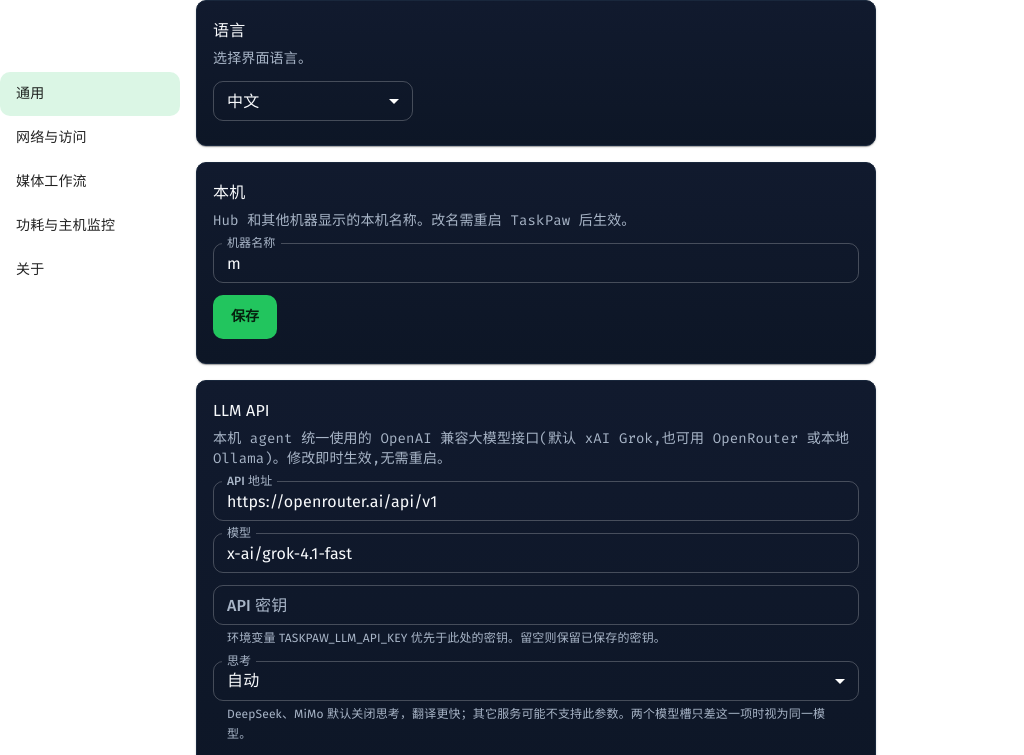
Test: Settings LLM API card › T-U3 Test connection includes a typed key
The image size is (1024, 755).
Expected: the field labelled "模型" is shown, left=213, top=533, right=859, bottom=573
Type "sk-try" into the password field labelled "API 密钥". click: (536, 605)
box: left=213, top=585, right=859, bottom=625
(page scrolled)
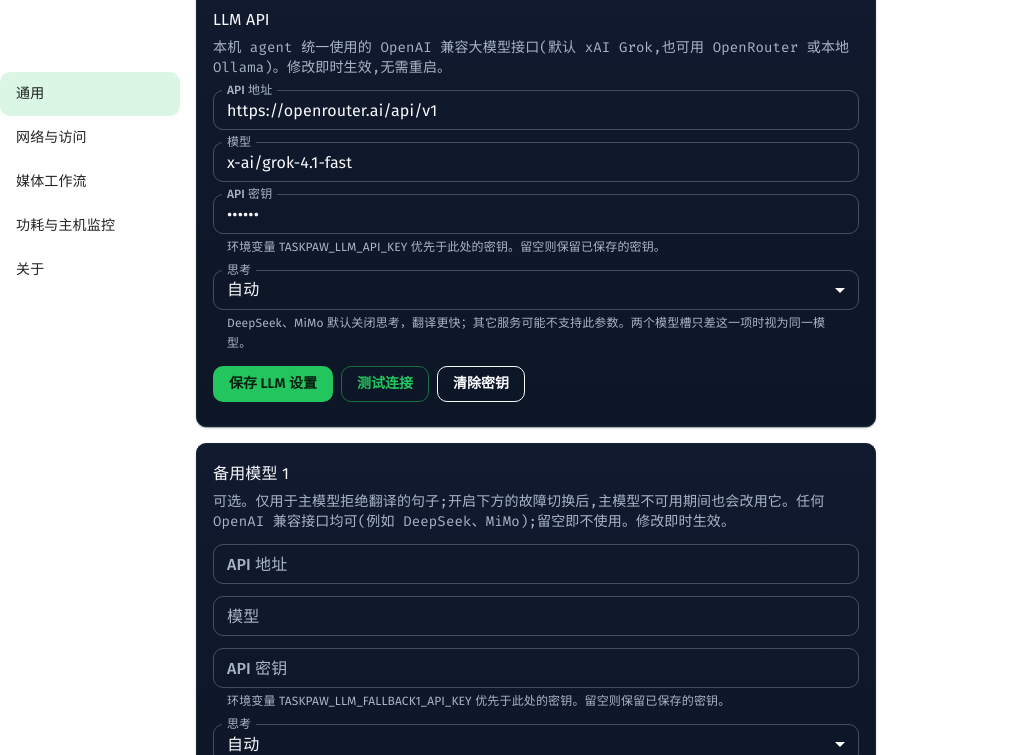
Click the button "测试连接". click: (385, 384)
box: left=341, top=366, right=429, bottom=402
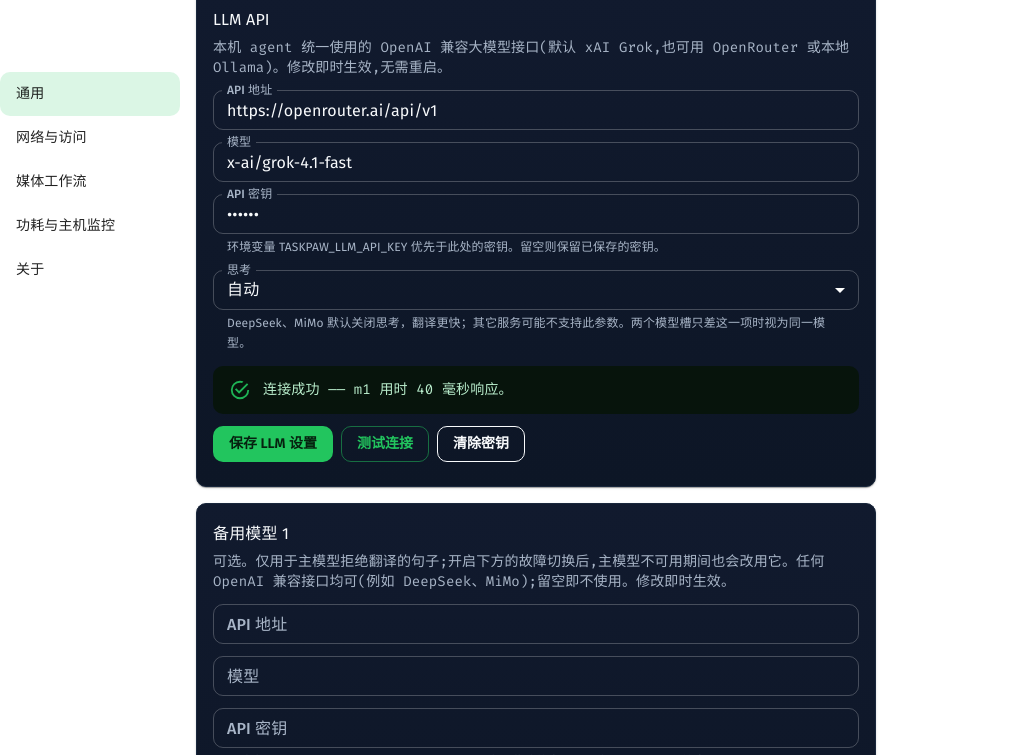
Now the message shows "m1", box left=263, top=380, right=513, bottom=399
